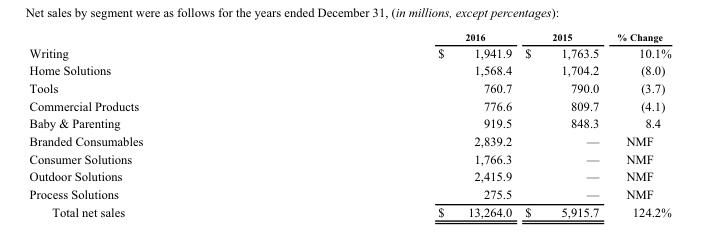table: (28, 29, 670, 219)
table column: (28, 29, 289, 219), (289, 29, 517, 219), (517, 29, 607, 219), (607, 29, 670, 219)
table column header: (28, 29, 670, 43)
table row: (28, 60, 670, 78), (28, 78, 670, 96), (28, 113, 670, 131), (28, 131, 670, 149), (28, 166, 670, 184), (28, 184, 670, 202), (28, 43, 670, 60), (28, 96, 670, 113), (28, 149, 670, 166), (28, 202, 670, 219), (28, 29, 670, 43)
